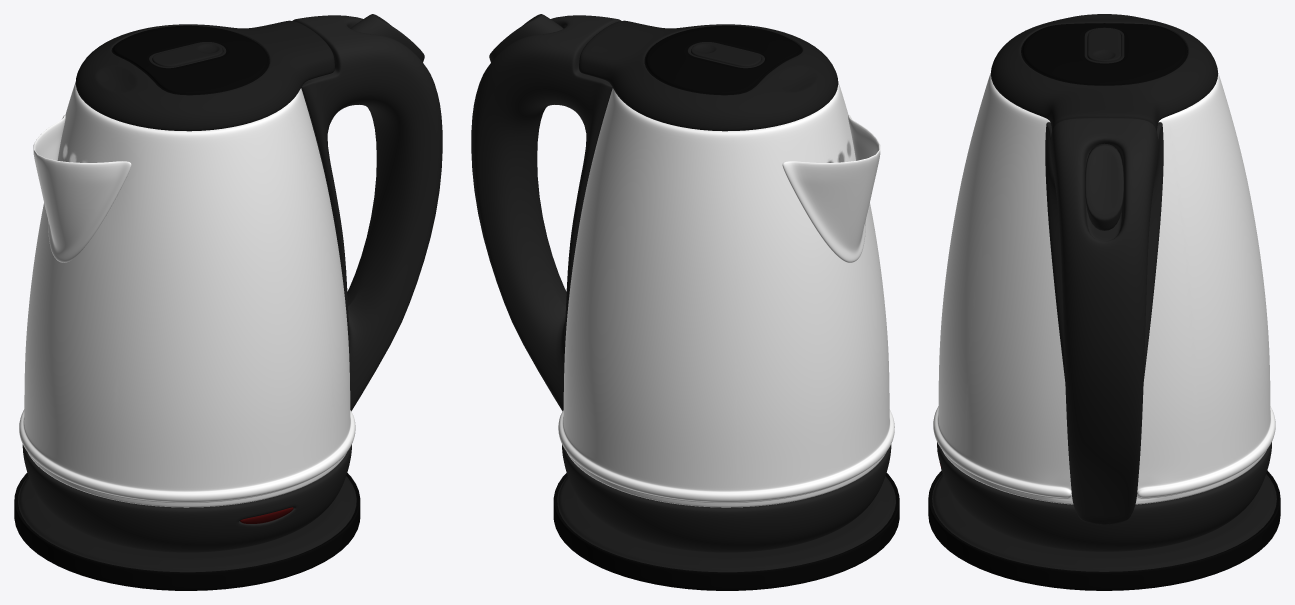
The model's file is electric__kettle.glb.
3 views of the same model, side by side, from view 1: azimuth 30°, elevation 25°; view 2: azimuth 150°, elevation 25°; view 3: azimuth 270°, elevation 25° (orthographic).
Parts seen in each view (by area): view 1: Plane.013, Plane.008, Plane.009; view 2: Plane.013, Plane.008, Plane.009; view 3: Plane.013, Plane.008, Plane.009.
Boxes of the visible parts, x1,y1,x2,y2 form: Plane.013: (19,14,442,552); Plane.008: (75,20,334,131); Plane.009: (14,473,360,590); Plane.013: (471,14,894,552); Plane.008: (579,20,838,131); Plane.009: (553,473,899,590); Plane.013: (933,73,1275,551); Plane.008: (990,14,1218,130); Plane.009: (928,470,1280,590).
Bounding box in the file's own units: 4.25 × 4.77 × 3.22.
7 materials, 1 textured.
